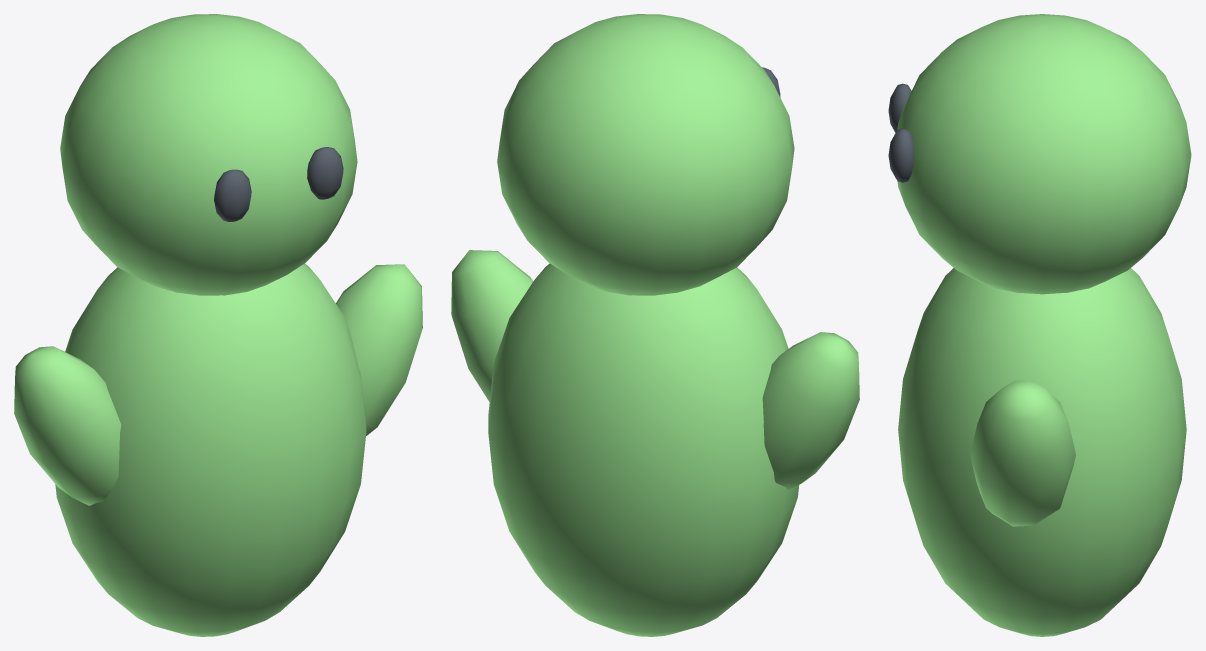
File: figure_green.glb
3 renders of one model, left to right at view 1: azimuth 30°, elevation 25°; view 2: azimuth 150°, elevation 25°; view 3: azimuth 270°, elevation 25°, orthographic.
Parts seen in each view (by area): view 1: FigureGreen; view 2: FigureGreen; view 3: FigureGreen.
Boxes of the visible parts, left/top/right/bottom form: FigureGreen: left=14, top=14, right=422, bottom=636; FigureGreen: left=451, top=14, right=859, bottom=636; FigureGreen: left=888, top=14, right=1191, bottom=636.
Bounding box in the file's own units: 0.0954 × 0.137 × 0.063.
